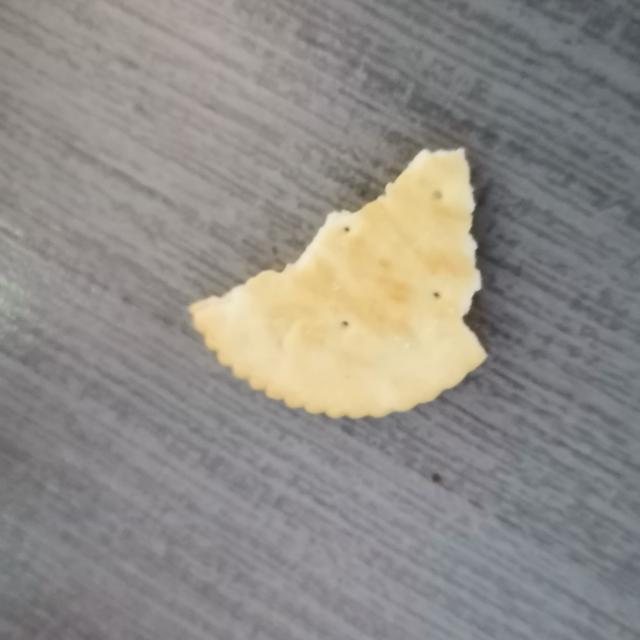Broken: (187, 146, 488, 421)
